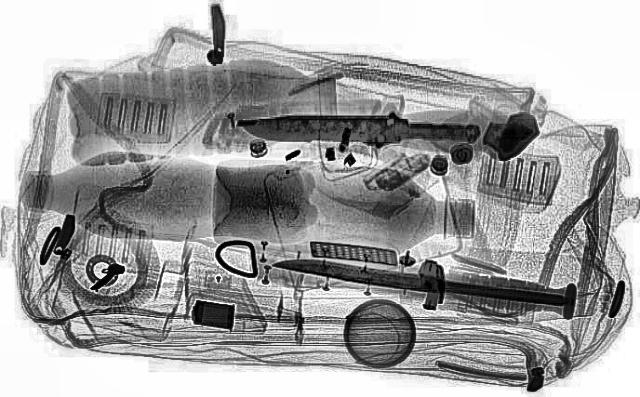Knife: (258, 239, 586, 325), (236, 108, 480, 148)
